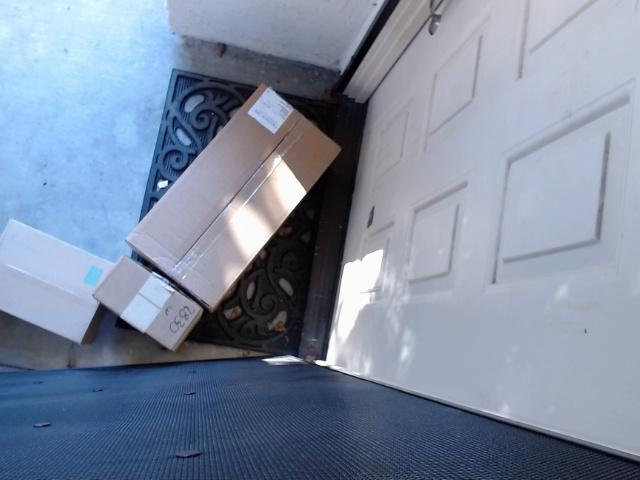box: (135, 76, 341, 314), (3, 207, 121, 345), (90, 257, 213, 375)
